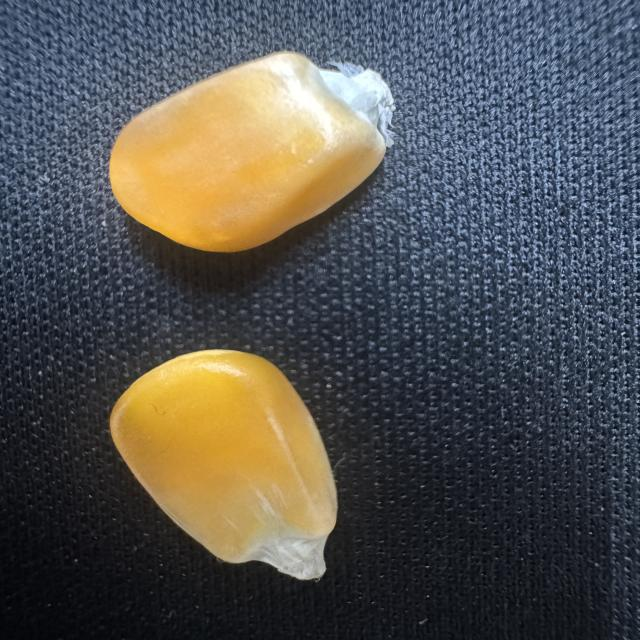Good-Seed: (103, 44, 399, 259), (101, 341, 344, 585)
